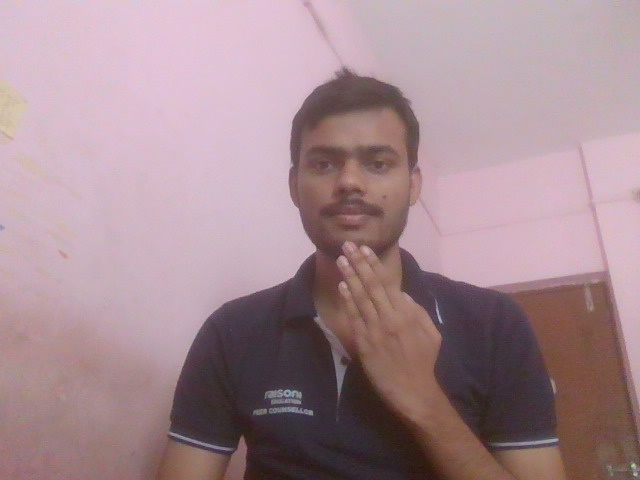ThankYou: (306, 195, 520, 440)
